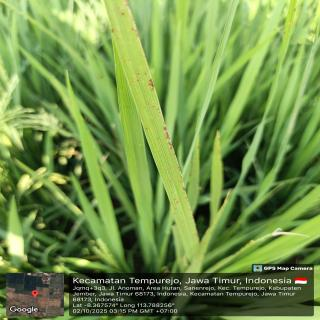bercak-Cokelat: (159, 119, 176, 157), (174, 162, 190, 201), (145, 101, 164, 120), (128, 25, 141, 42), (146, 76, 156, 92)
